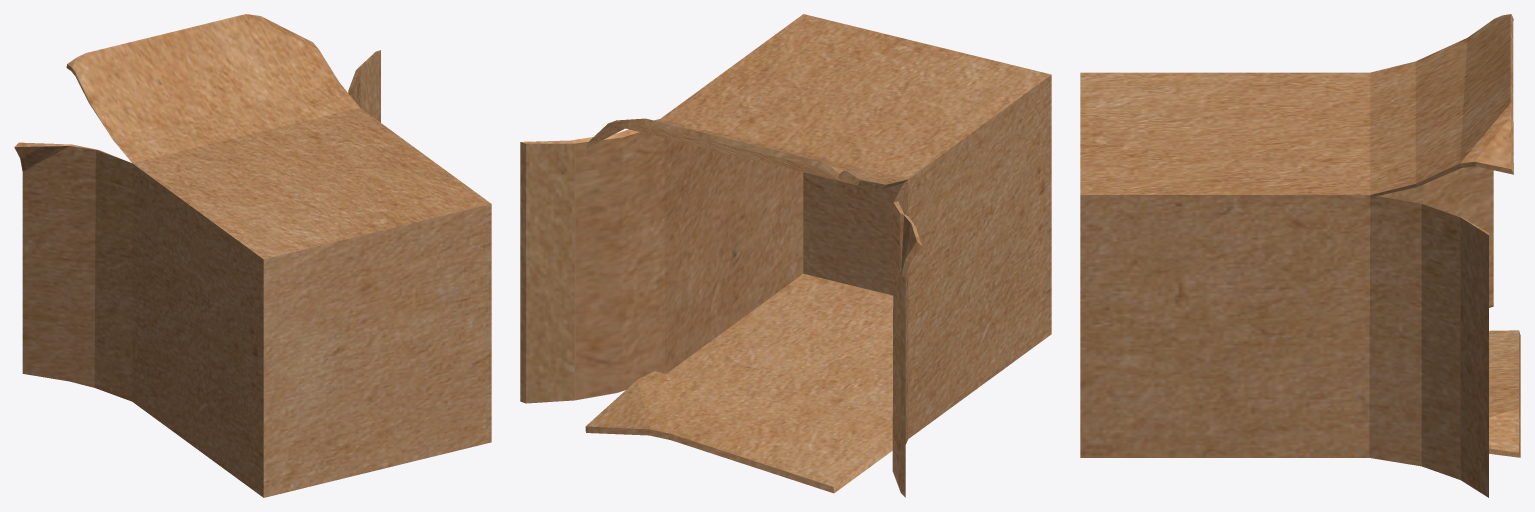
3 renders of one model, left to right at view 1: azimuth 30°, elevation 25°; view 2: azimuth 150°, elevation 25°; view 3: azimuth 270°, elevation 25°, orthographic. The views are drawn at different scales.
Parts seen in each view (by area): view 1: Cube; view 2: Cube; view 3: Cube.
Part boxes in pixels (x1=…): Cube: x1=14, y1=14, x2=491, y2=497; Cube: x1=520, y1=14, x2=1051, y2=497; Cube: x1=1080, y1=14, x2=1520, y2=497.
Size of the model in its own units: 96.8 by 75.02 by 91.1.
1 material, 1 textured.
